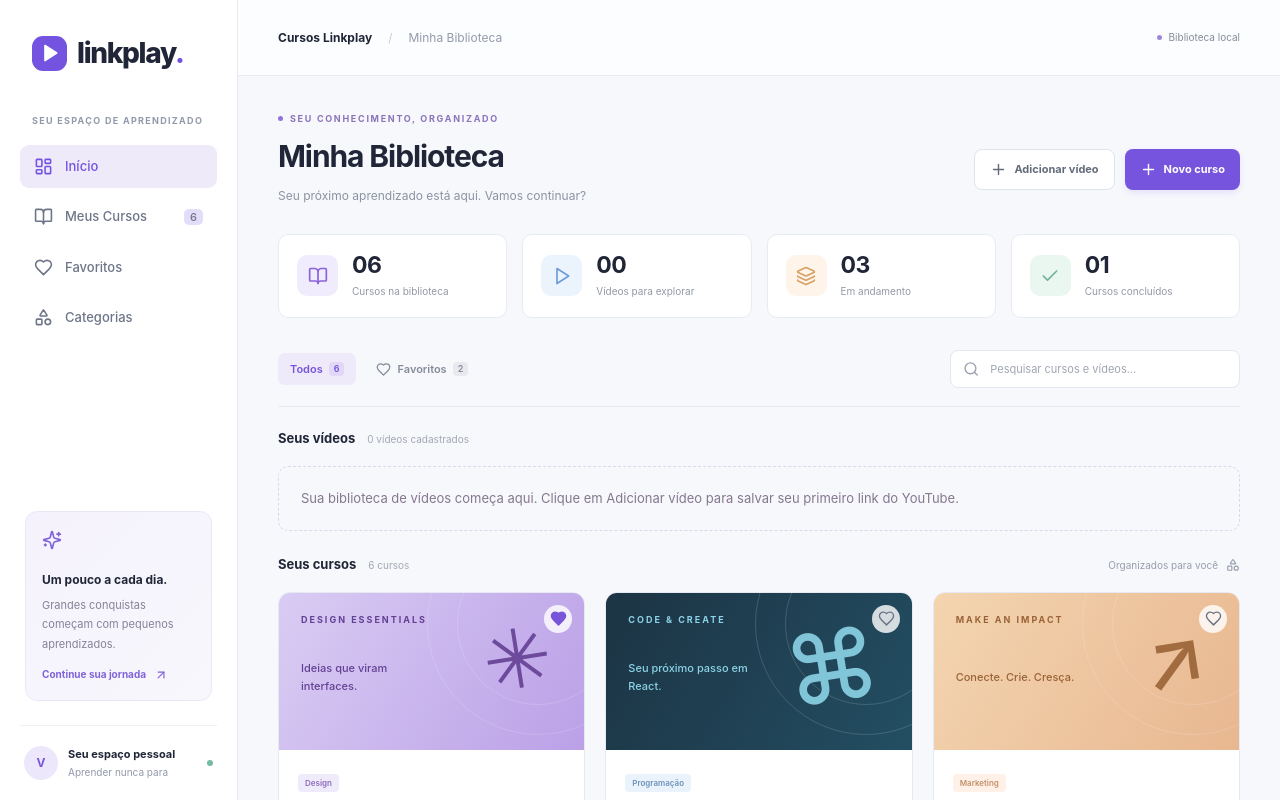
Test case: Biblioteca Cursos Linkplay › exibe um estado vazio e restaura a biblioteca
In the field labelled "Pesquisar cursos e vídeos...": (1108, 369) [988,360,1227,378], type "inexistente"
(page scrolled)
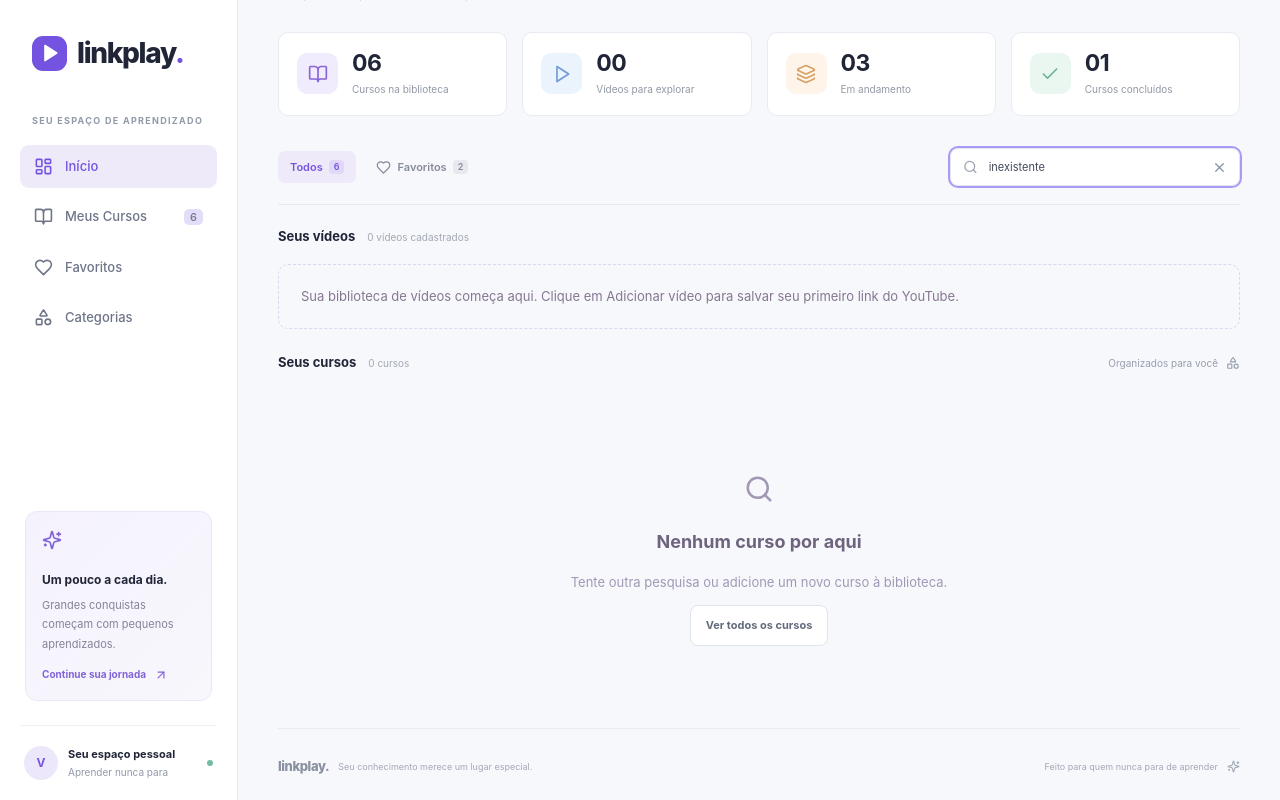
Result: the heading "Nenhum curso por aqui" is shown at [656,531,862,552]
Click the button "Ver todos os cursos": (759, 626) [690,605,828,646]
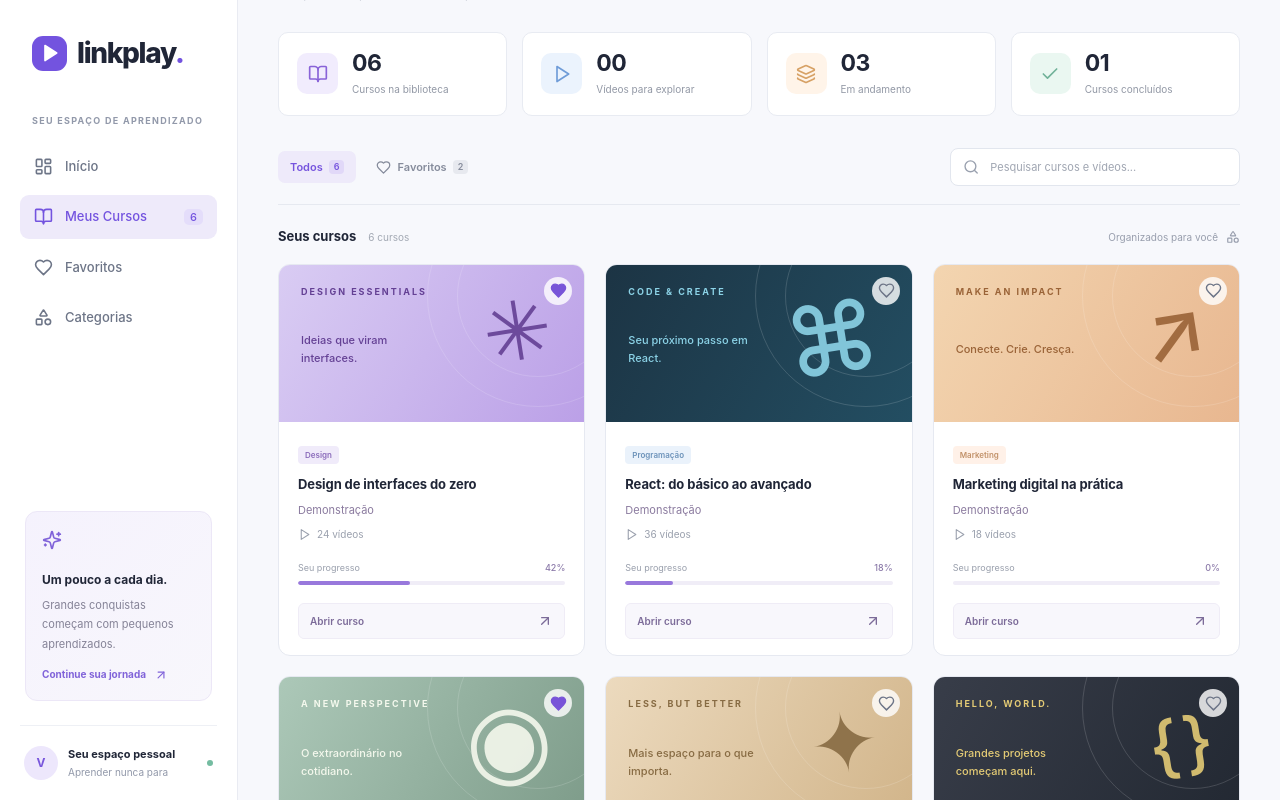
Result: the number of buttons "Abrir curso" is 6
